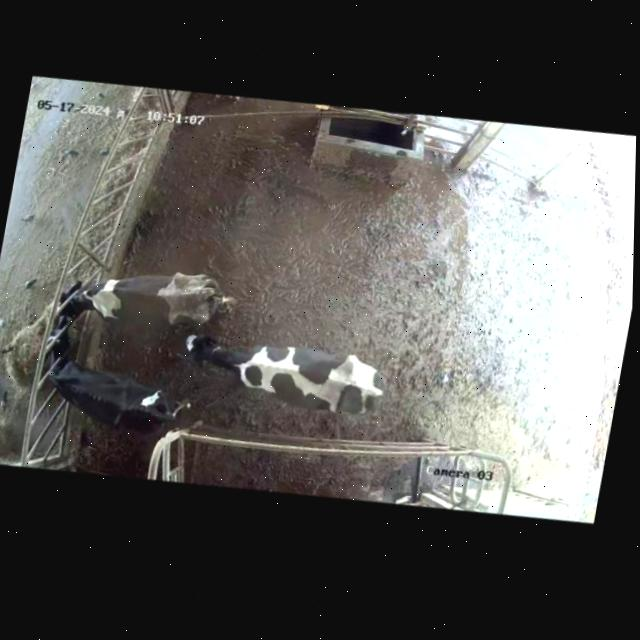eat: (8, 262, 139, 351), (0, 314, 108, 406)
stand: (165, 307, 418, 443)
